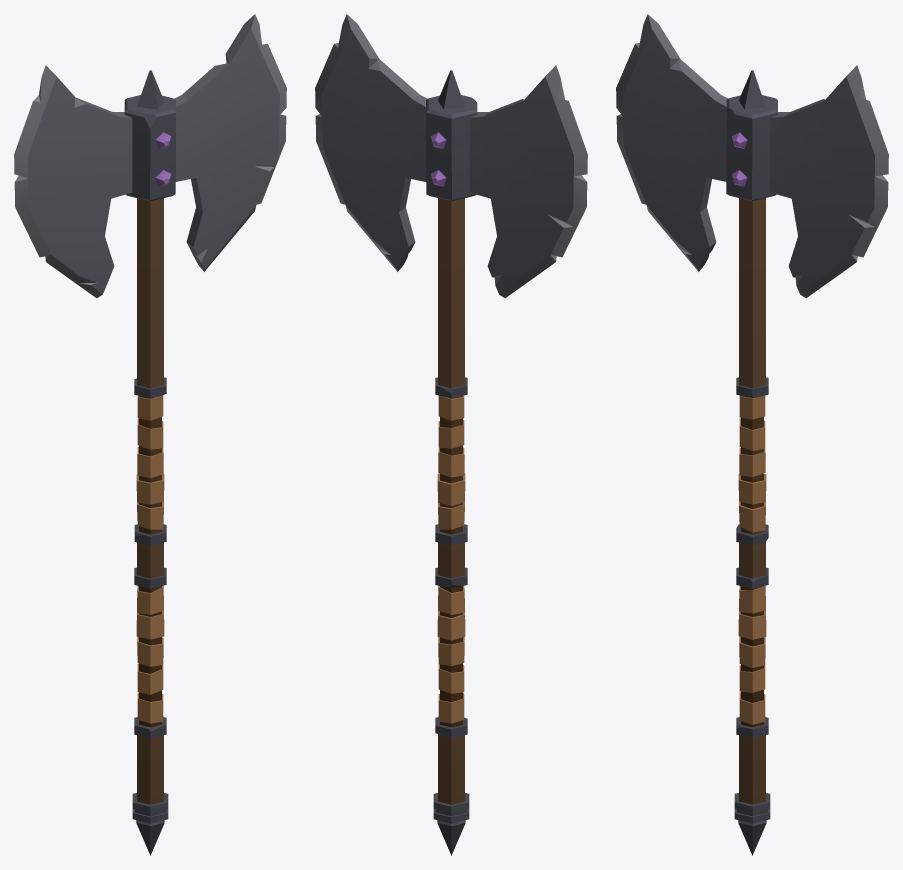
File: Weapon_09.glb
3 views of the same model, side by side, from view 1: azimuth 30°, elevation 25°; view 2: azimuth 150°, elevation 25°; view 3: azimuth 330°, elevation 25° (orthographic).
Visible parts, largest first — view 1: Weapon_09_LOD0; view 2: Weapon_09_LOD0; view 3: Weapon_09_LOD0.
Boxes of the visible parts, bbox=[...] form: Weapon_09_LOD0: bbox=[14, 14, 286, 855]; Weapon_09_LOD0: bbox=[315, 14, 587, 855]; Weapon_09_LOD0: bbox=[616, 14, 888, 855].
Size of what is drawn, in the model's own units: 0.4819 by 1.38 by 0.0992.
1 material, 1 textured.
